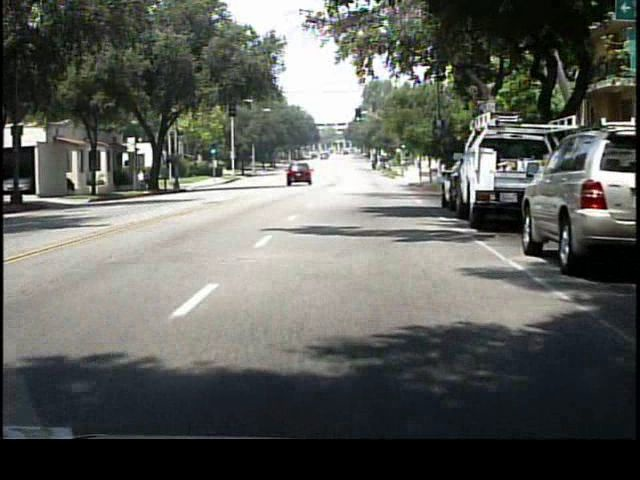person: (139, 167, 148, 192)
